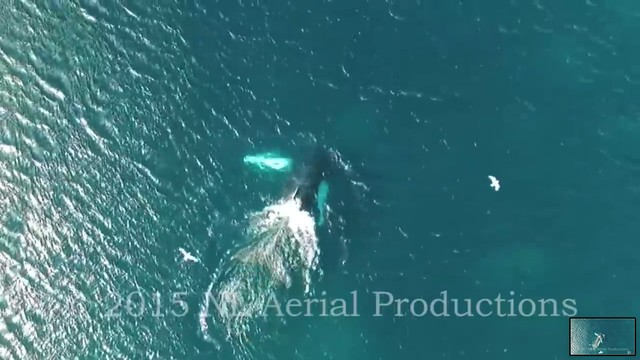whale: (229, 127, 347, 285)
